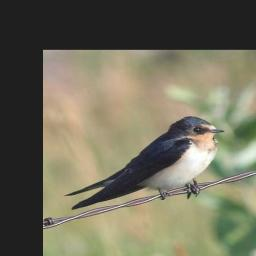Swallow: (64, 114, 227, 214)
